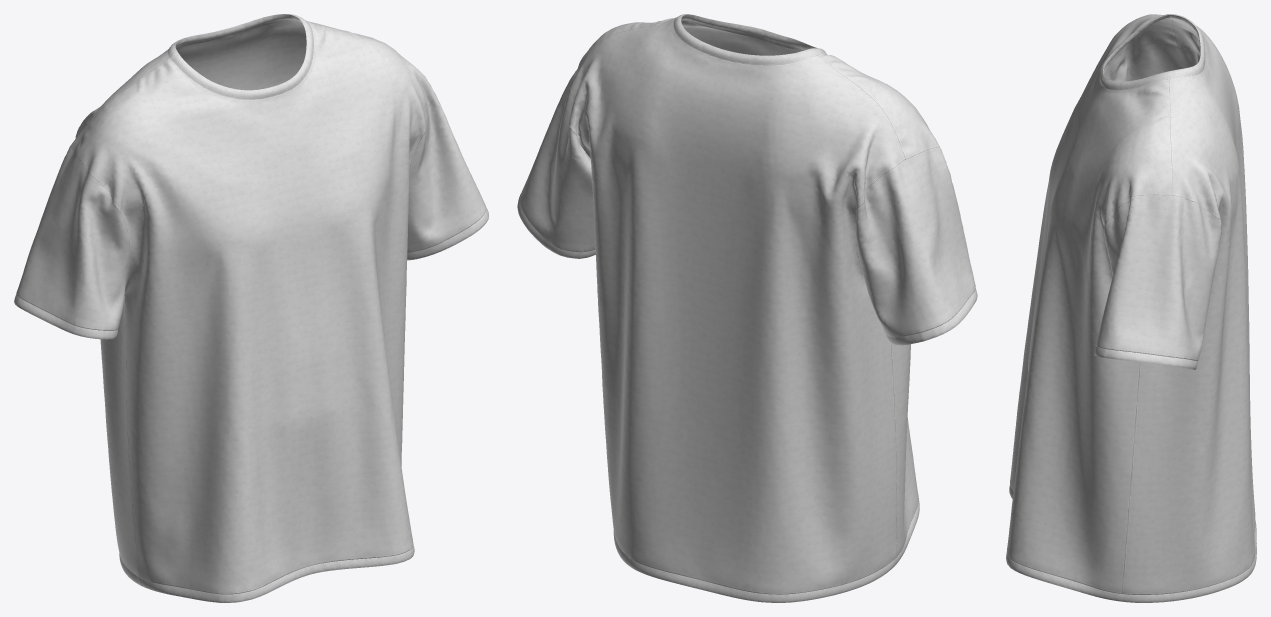
File: oversized_t-shirt.glb
3 views of the same model, side by side, from view 1: azimuth 30°, elevation 25°; view 2: azimuth 150°, elevation 25°; view 3: azimuth 270°, elevation 25° (orthographic). The views are drawn at different scales.
Size of the model in its own units: 0.637 by 0.7108 by 0.3212.
1 material, 1 textured.
